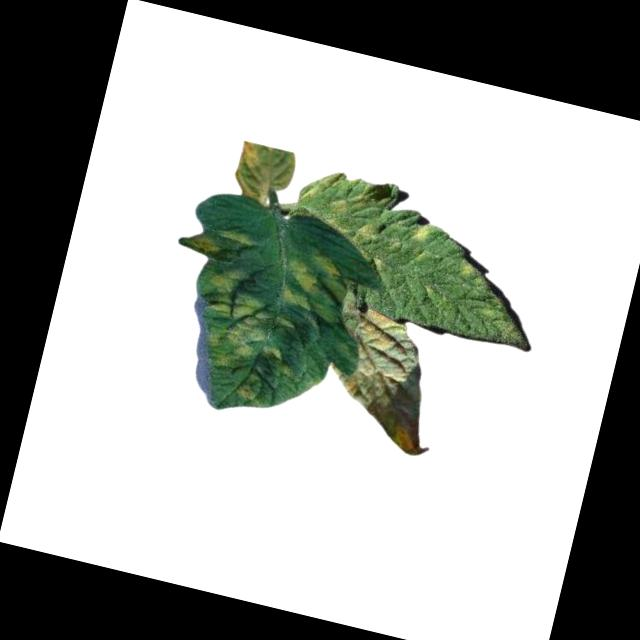Leaf_Mold: (314, 305, 446, 457), (190, 265, 310, 381), (296, 164, 392, 250), (272, 249, 351, 328), (228, 138, 298, 206), (182, 216, 252, 265), (451, 255, 479, 289), (405, 219, 435, 248), (234, 386, 259, 406)
